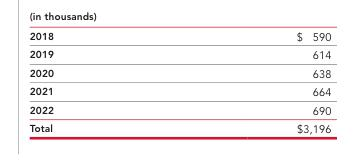table: (28, 29, 330, 135)
table column: (174, 29, 330, 135), (28, 29, 174, 135)
table row: (28, 63, 330, 82), (28, 100, 330, 119), (28, 45, 330, 63), (28, 82, 330, 100), (28, 29, 330, 45), (28, 119, 330, 135)
